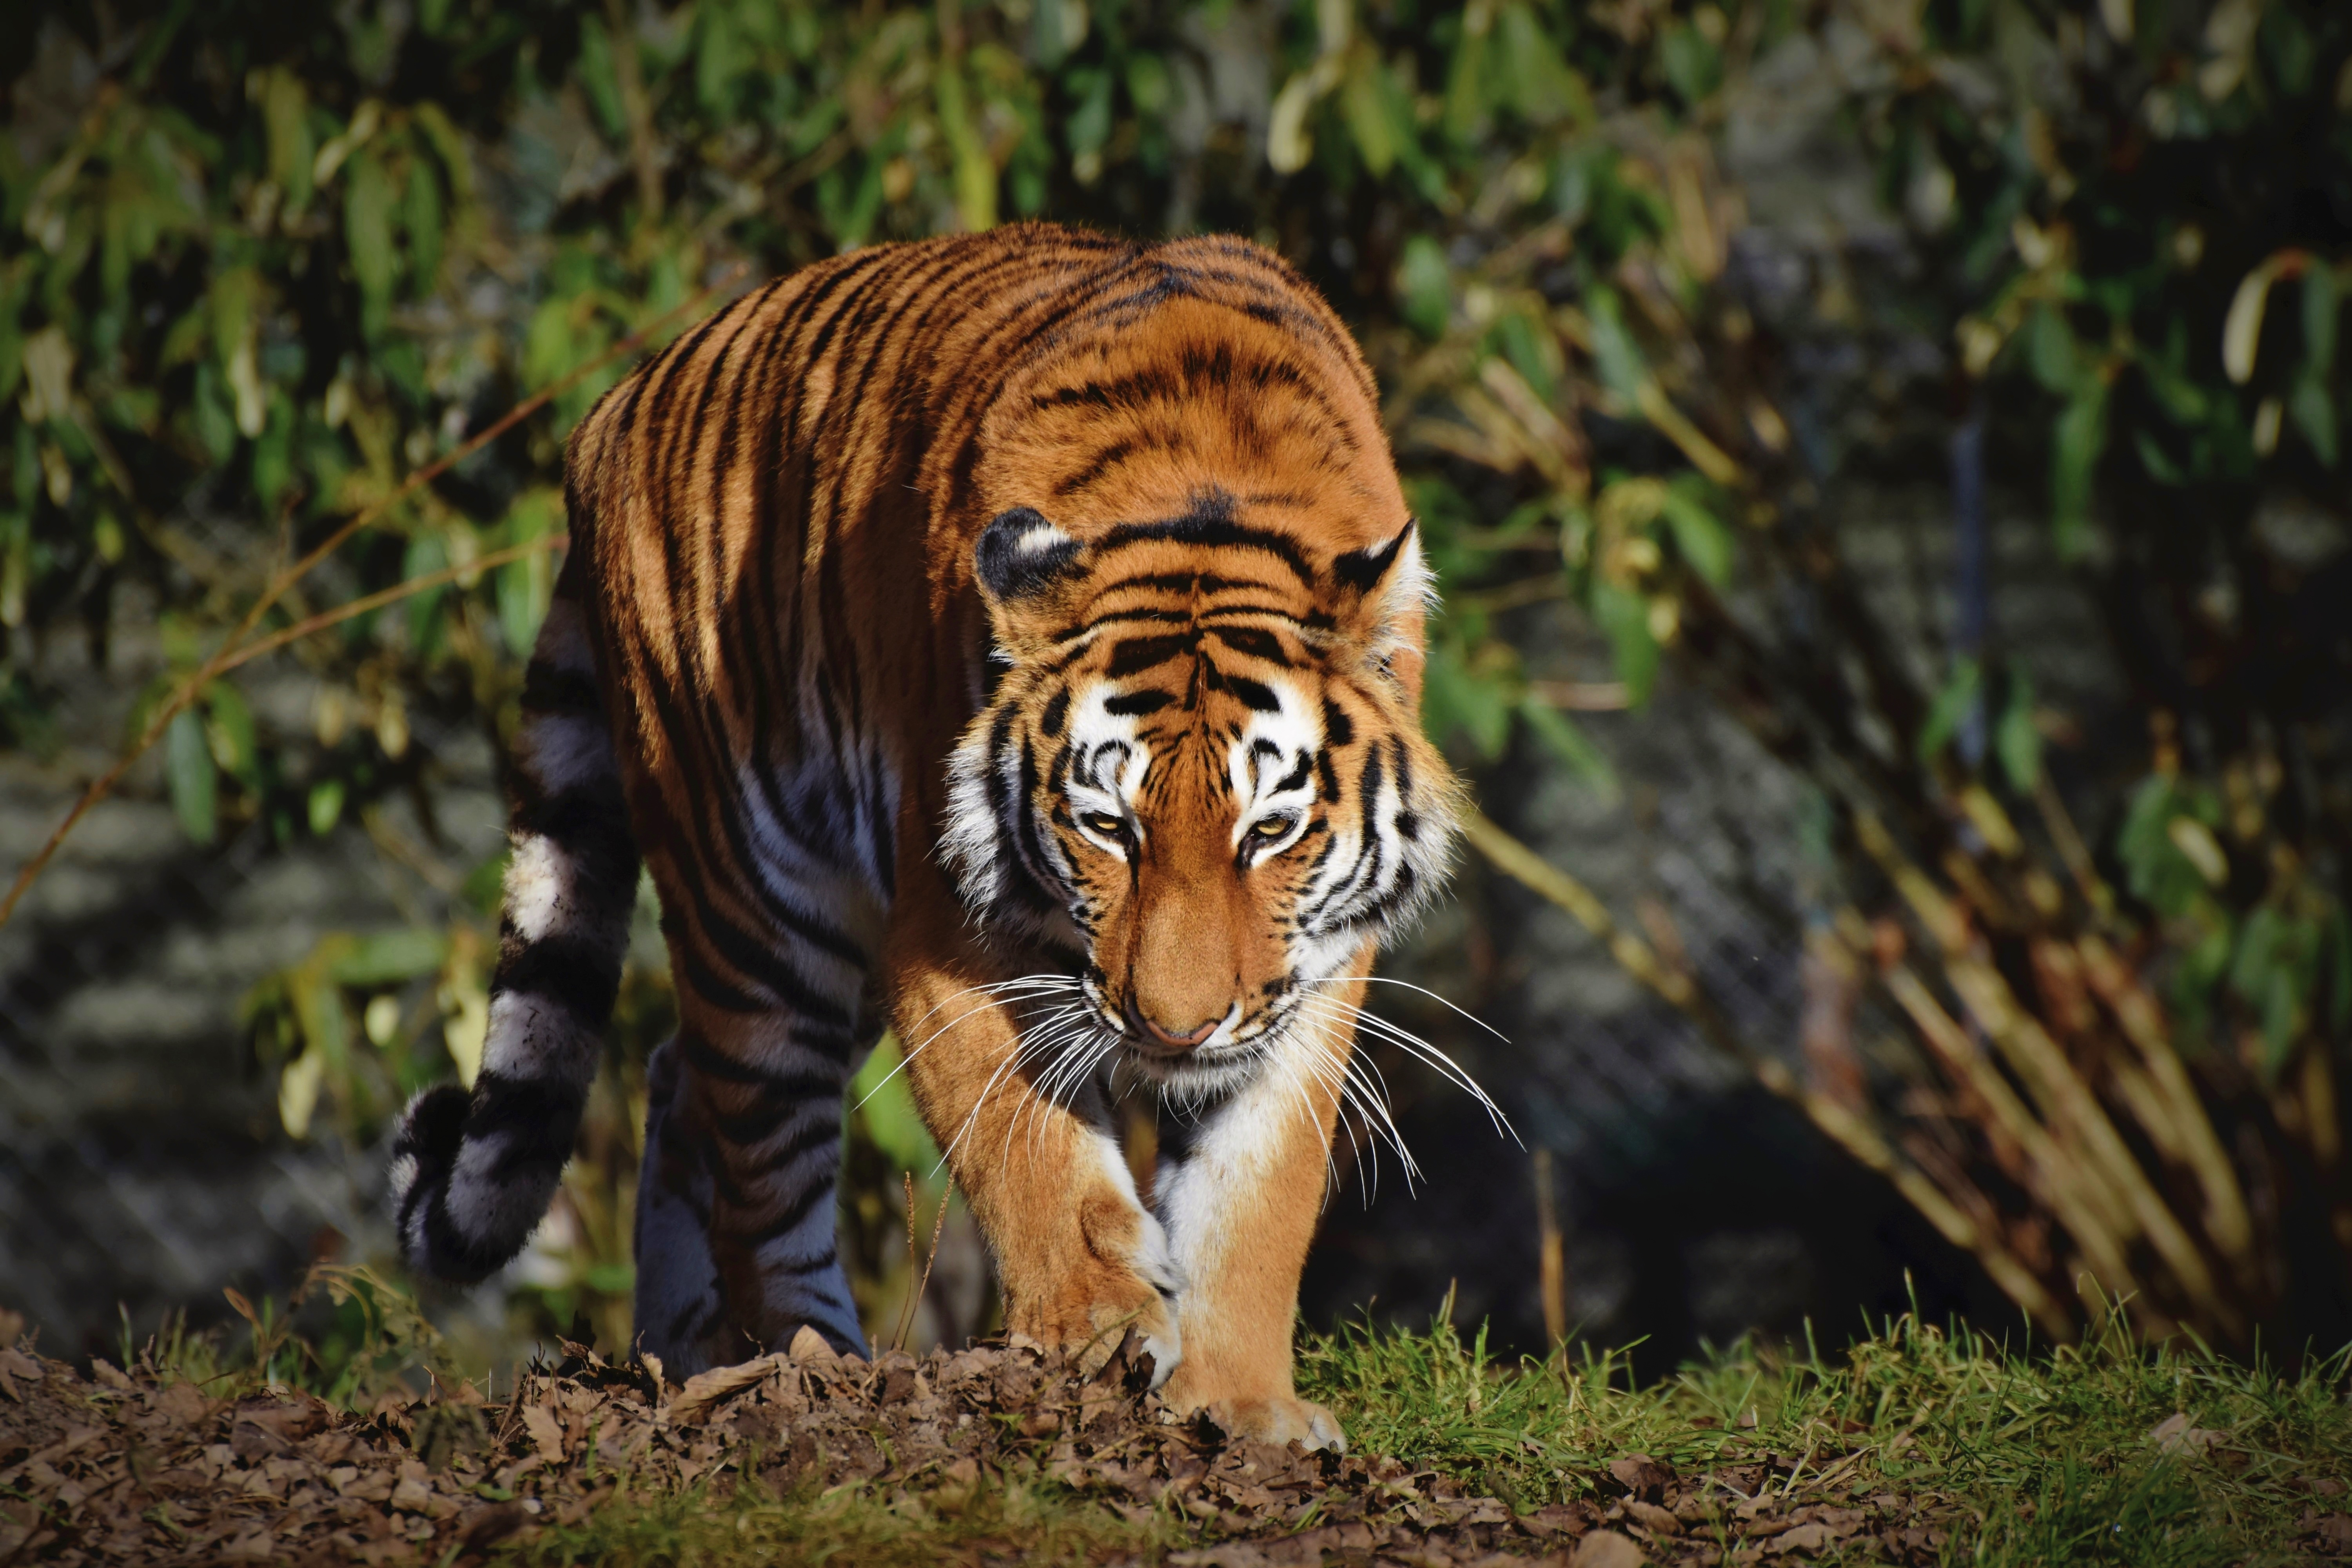tiger: (424, 229, 1491, 1461)
